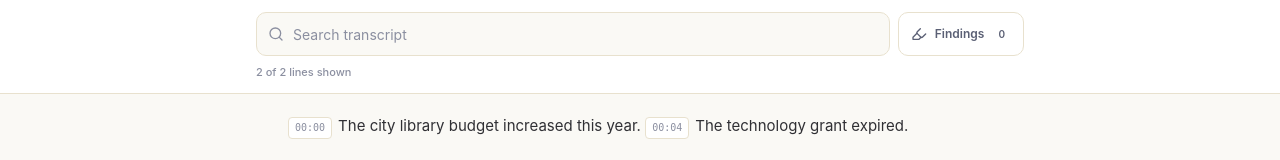
aria-live regions › filters transcript lines by search and highlights the match
This screenshot has width=1280, height=160.
Type "budget" into the search field labelled "Search transcript" at coordinates (573, 34), box [256,12,890,56]
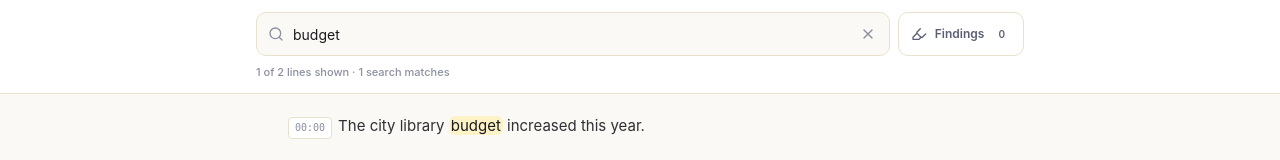
Expected: the message with test id "transcript-filter-summary" shows "1 of 2 lines shown", [256,65,450,79]
Expected: the text "The technology grant expired." is gone
